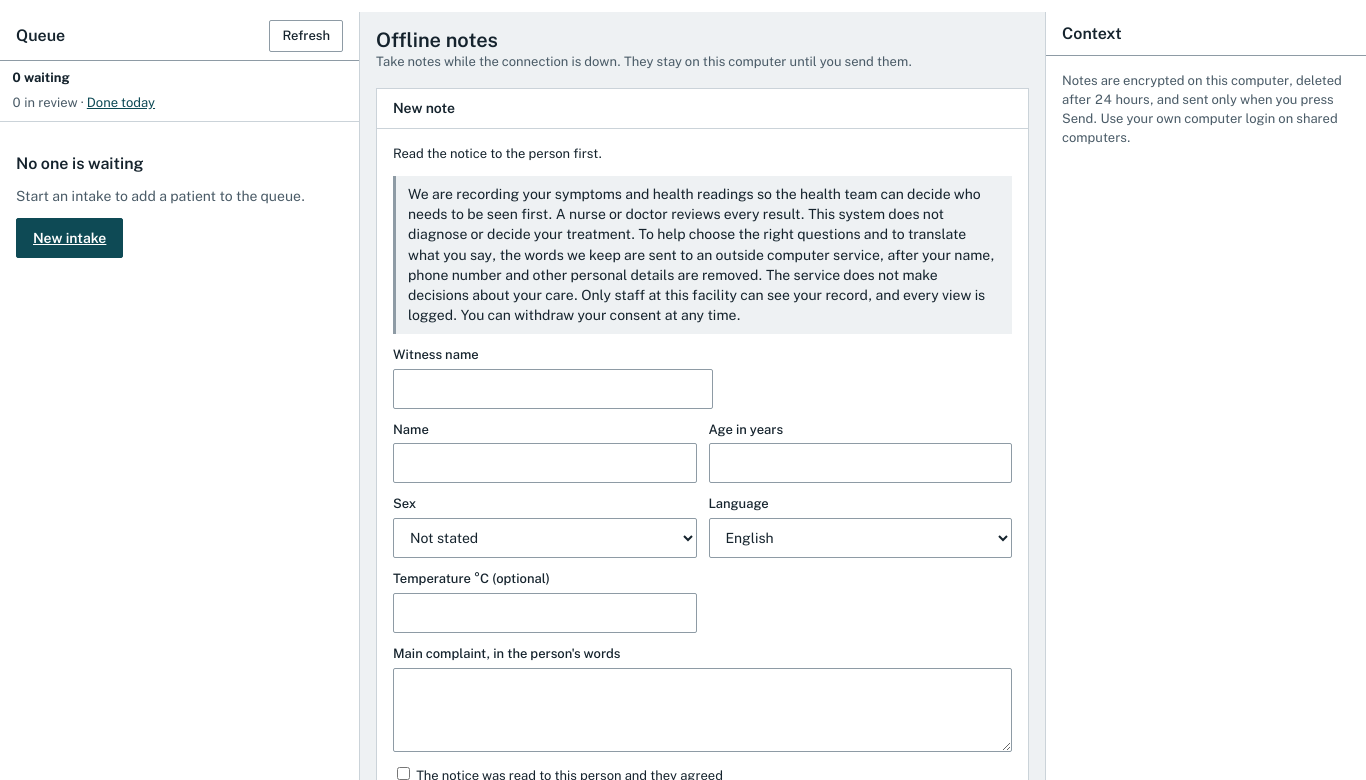
Test: OfflinePage › sends the saved notes through the same steps as camp registration and removes the ones that went through
In the field labelled "Witness name": (553, 389) [393,369,713,409], type "A. Witness"
In the field labelled "Name": (545, 464) [393,444,696,484], type "Meera Das"
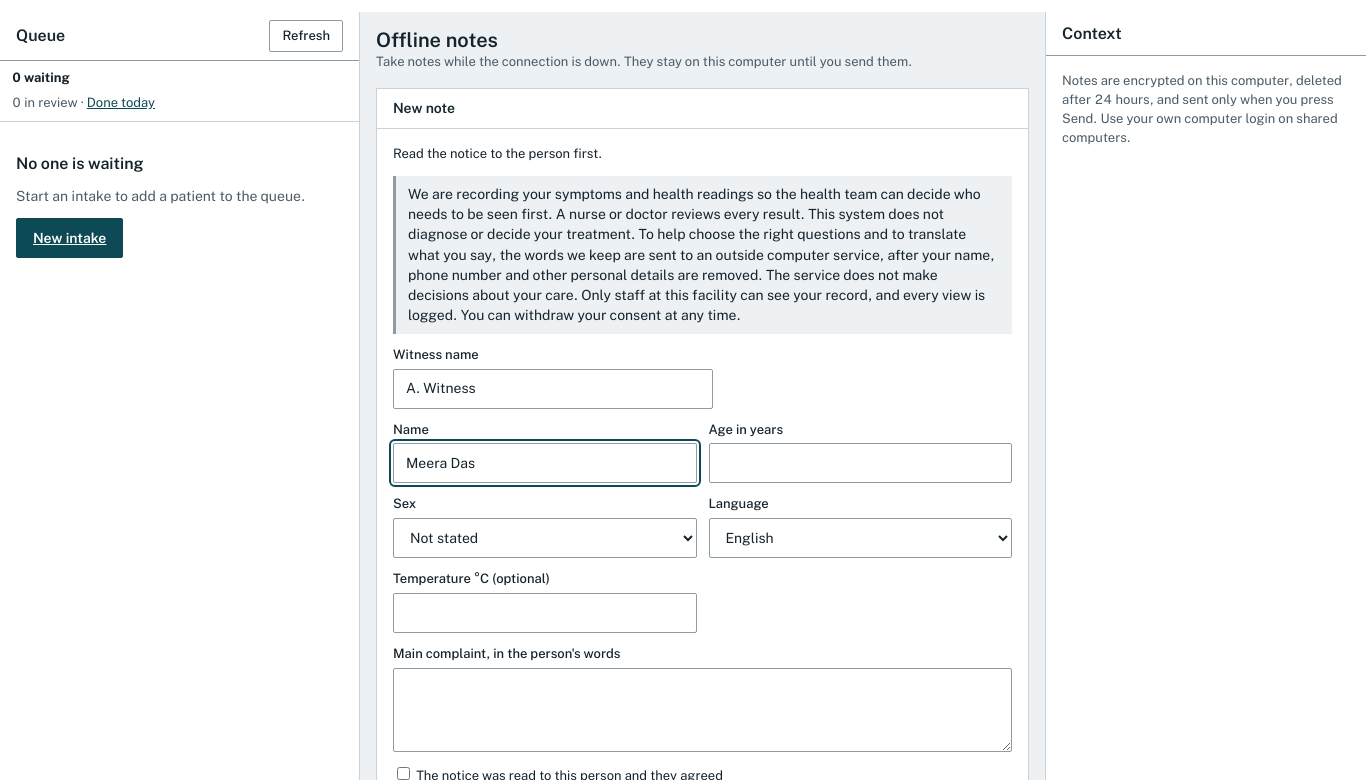
In the field labelled "Age in years": (860, 464) [708,444,1012,484], type "28"
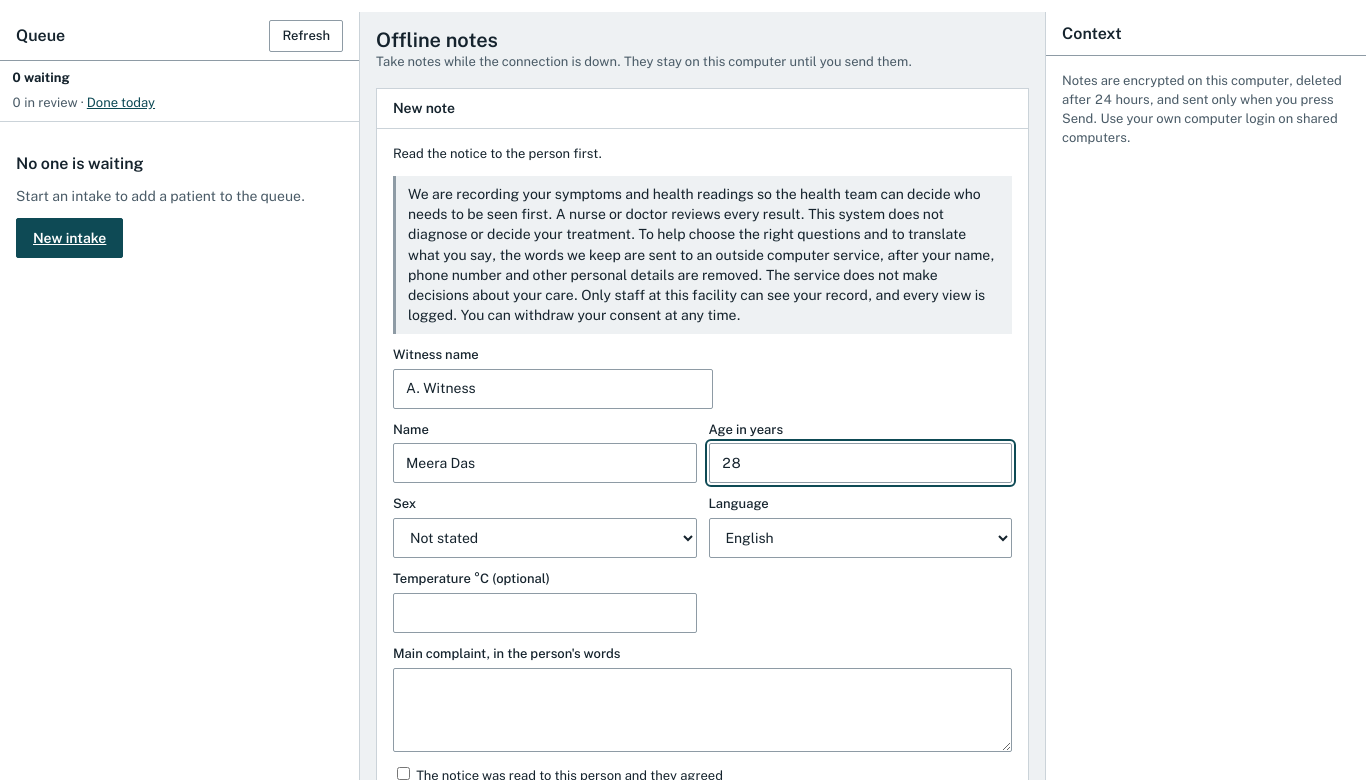
In the text box labelled "Main complaint, in the person's words": (702, 710) [393,668,1012,752], type "bukhar"
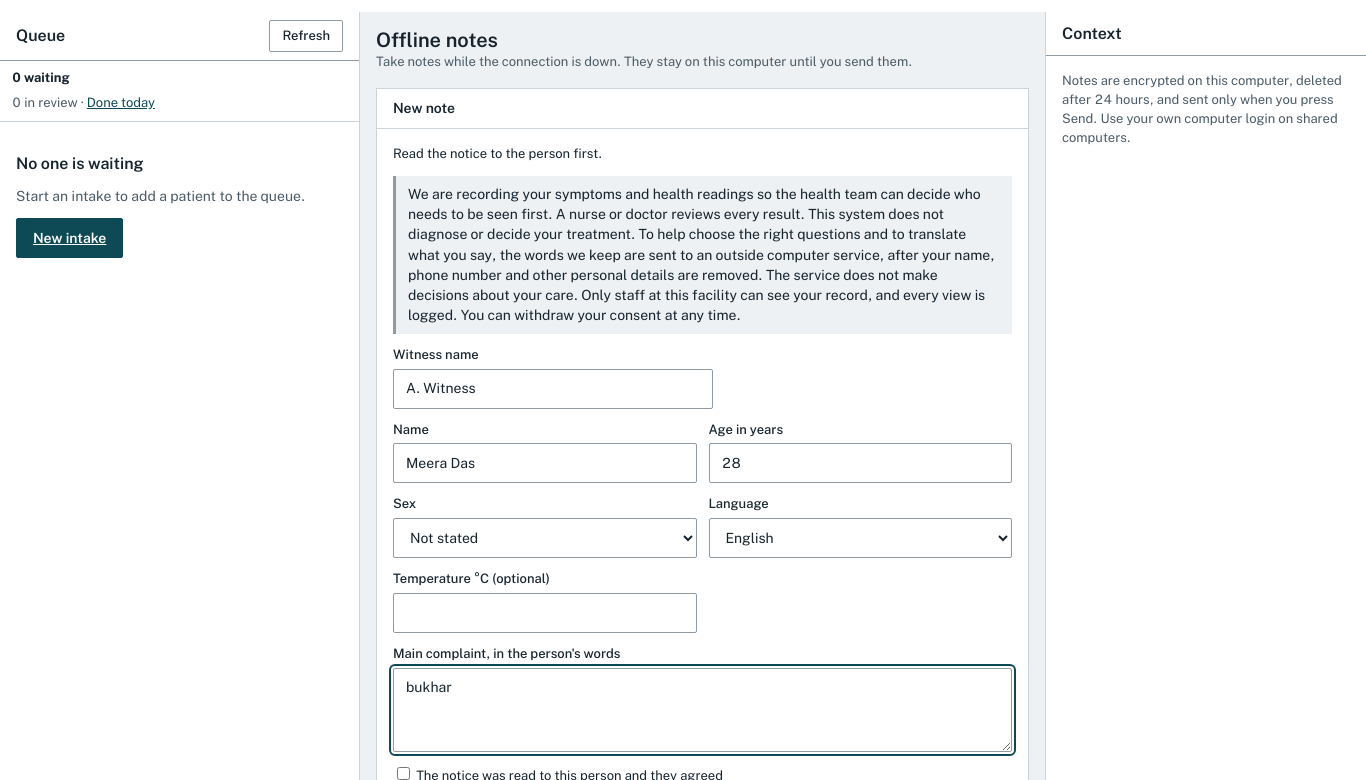
Click the checkbox labelled "The notice was read to this person and they agreed": (404, 774) [397,767,410,779]
(page scrolled)
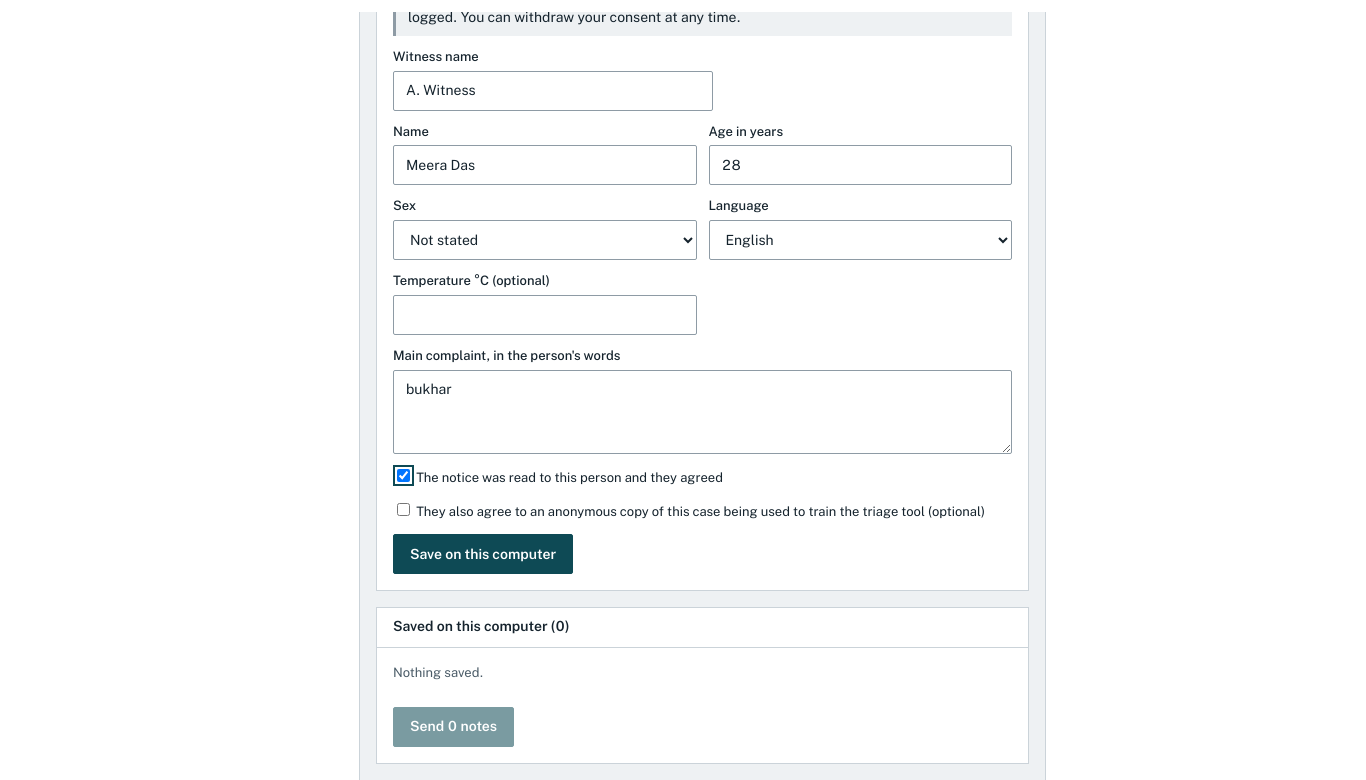
Click the button "Save on this computer": (483, 554) [393,534,573,574]
(page scrolled)
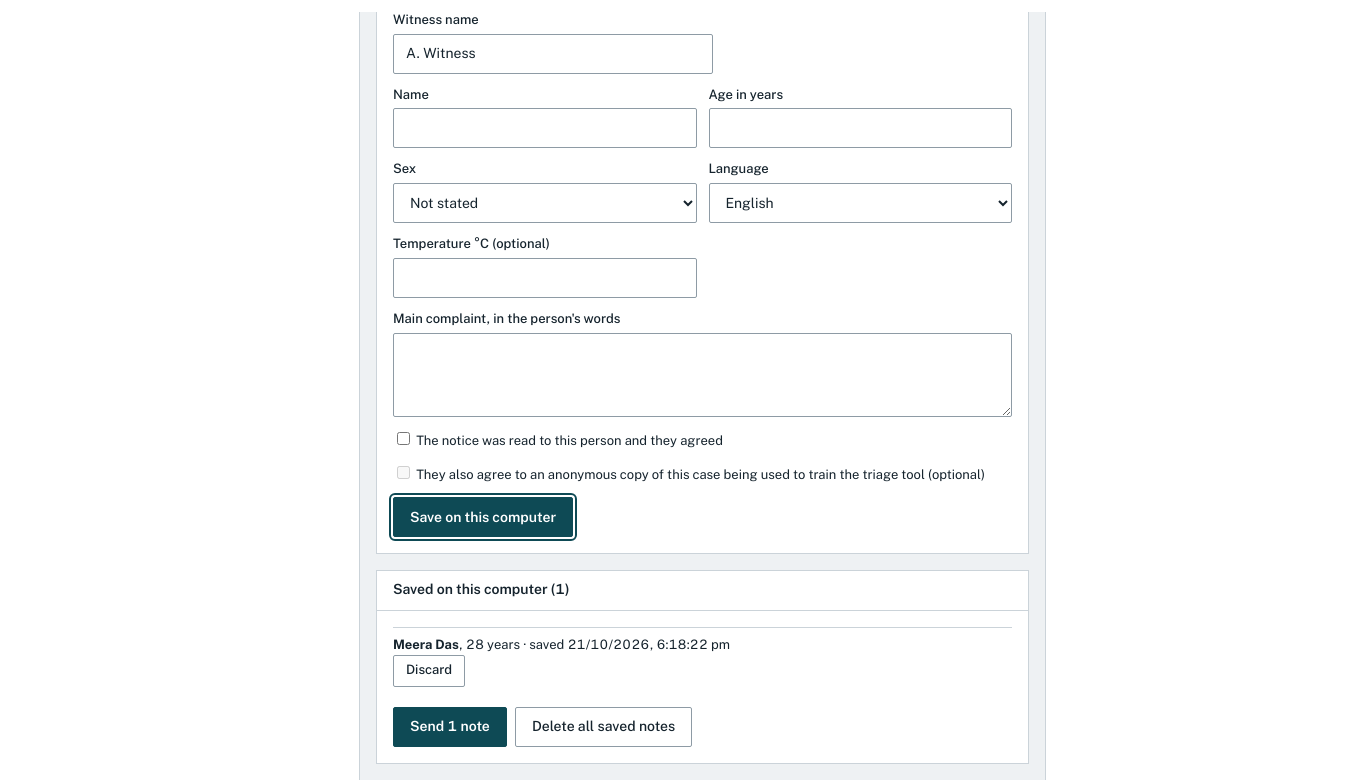
Click the button "Send 1 note": (450, 726) [393,706,507,746]
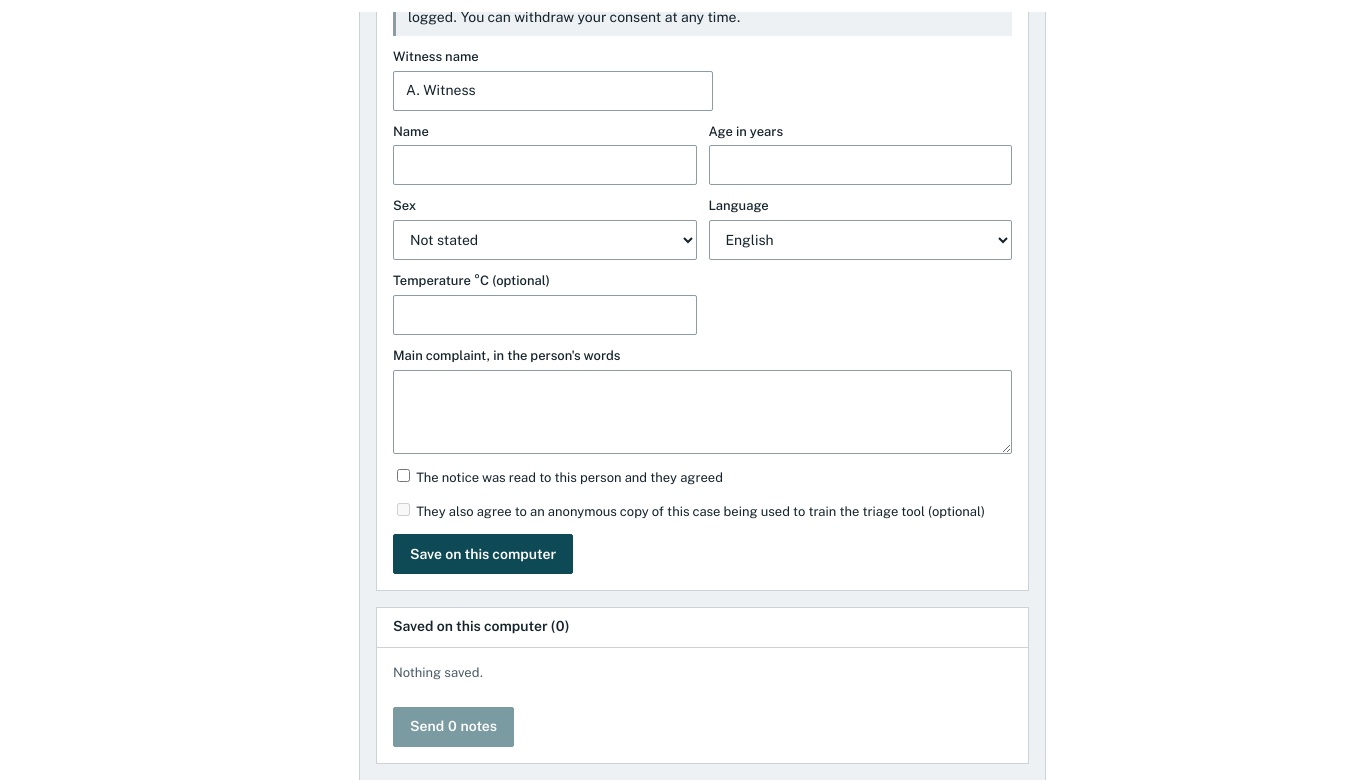
Expected: the text "Nothing saved." is shown, [393,665,483,680]
